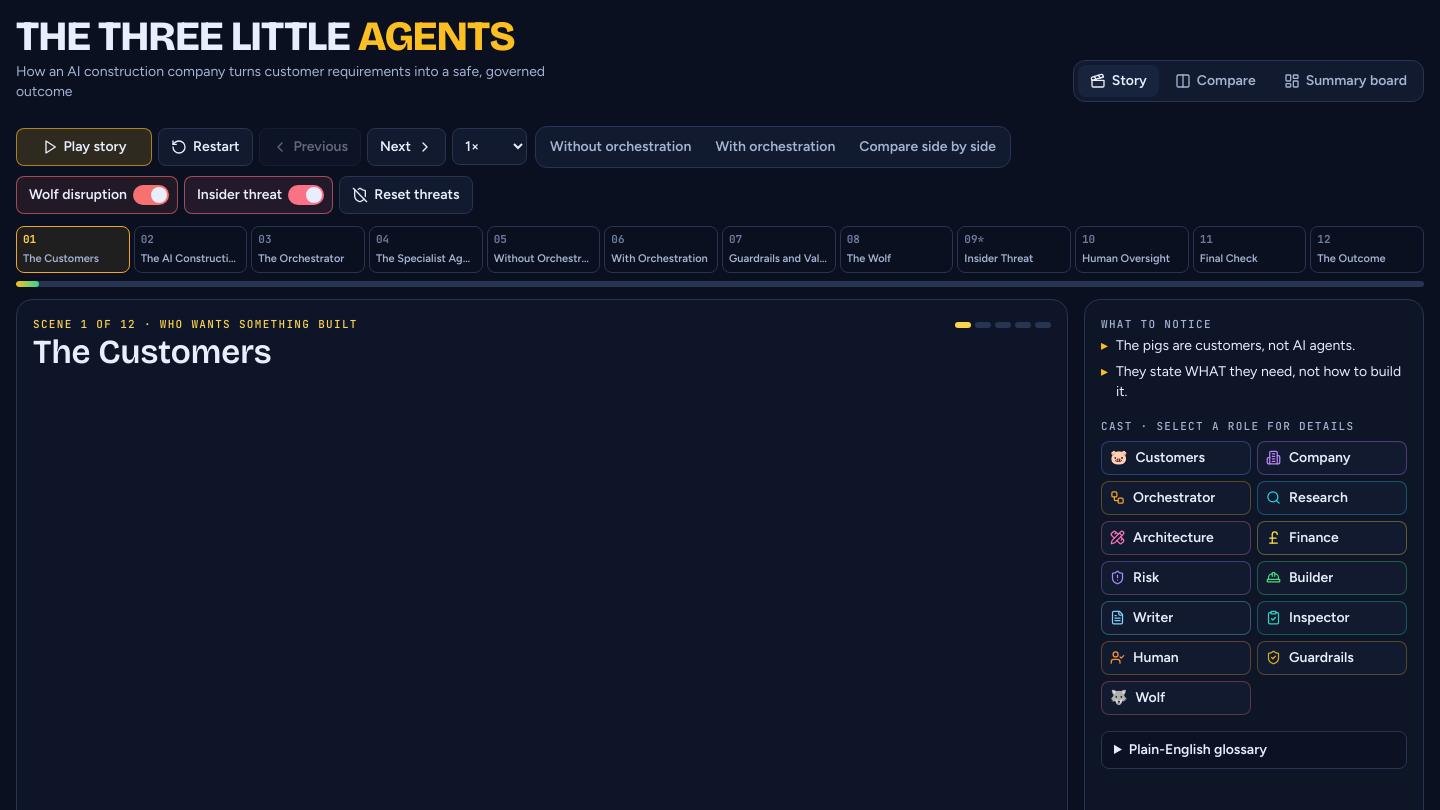
Scenario: App controls › mode buttons open the failure, controlled and compare views
The width and height of the screenshot is (1440, 810).
Click the button "Without orchestration": (621, 147) left=540, top=131, right=701, bottom=163
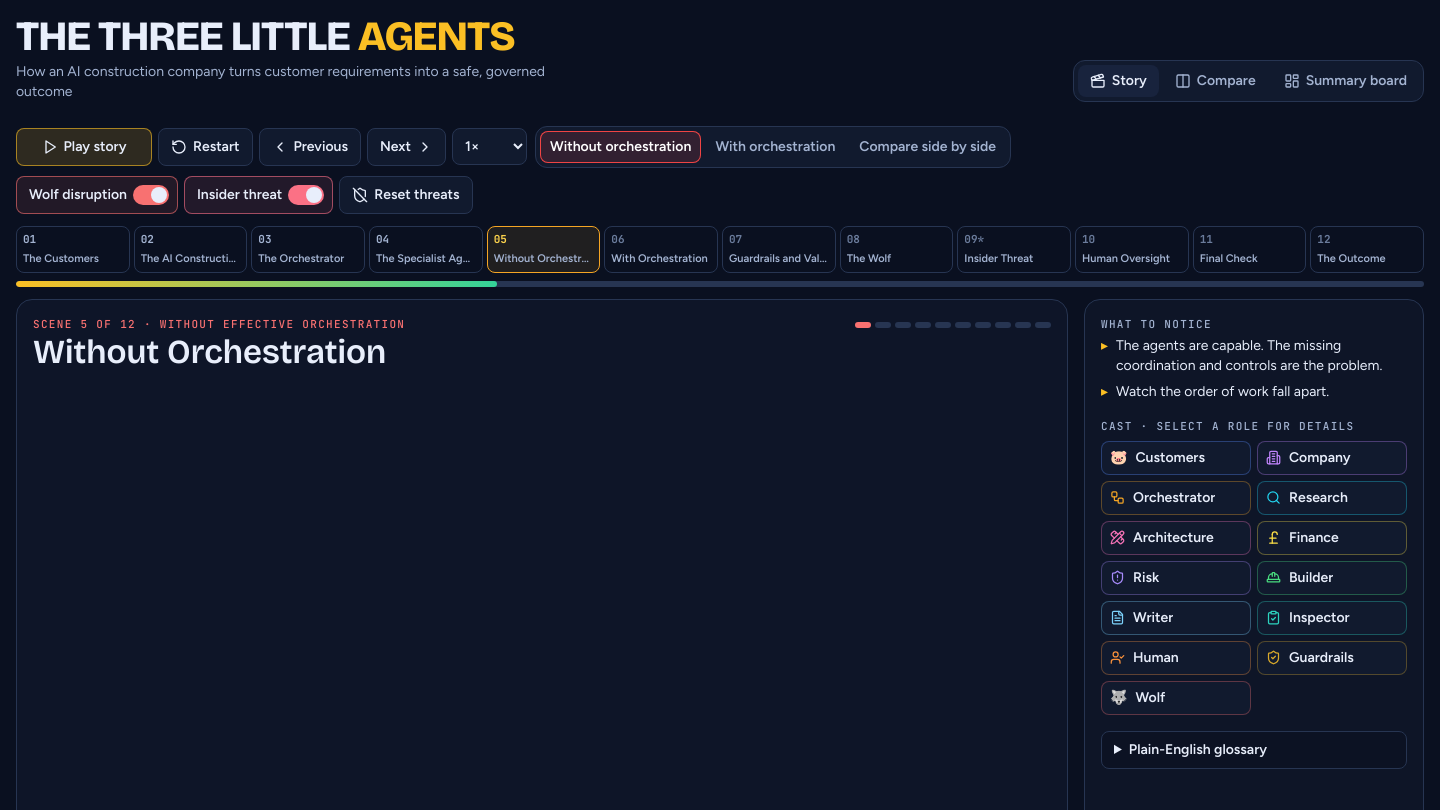
Expected: the text "Without Orchestration" is shown, left=494, top=251, right=593, bottom=268
Click the button "With orchestration": (775, 147) left=705, top=131, right=845, bottom=163
Wait 800 ms
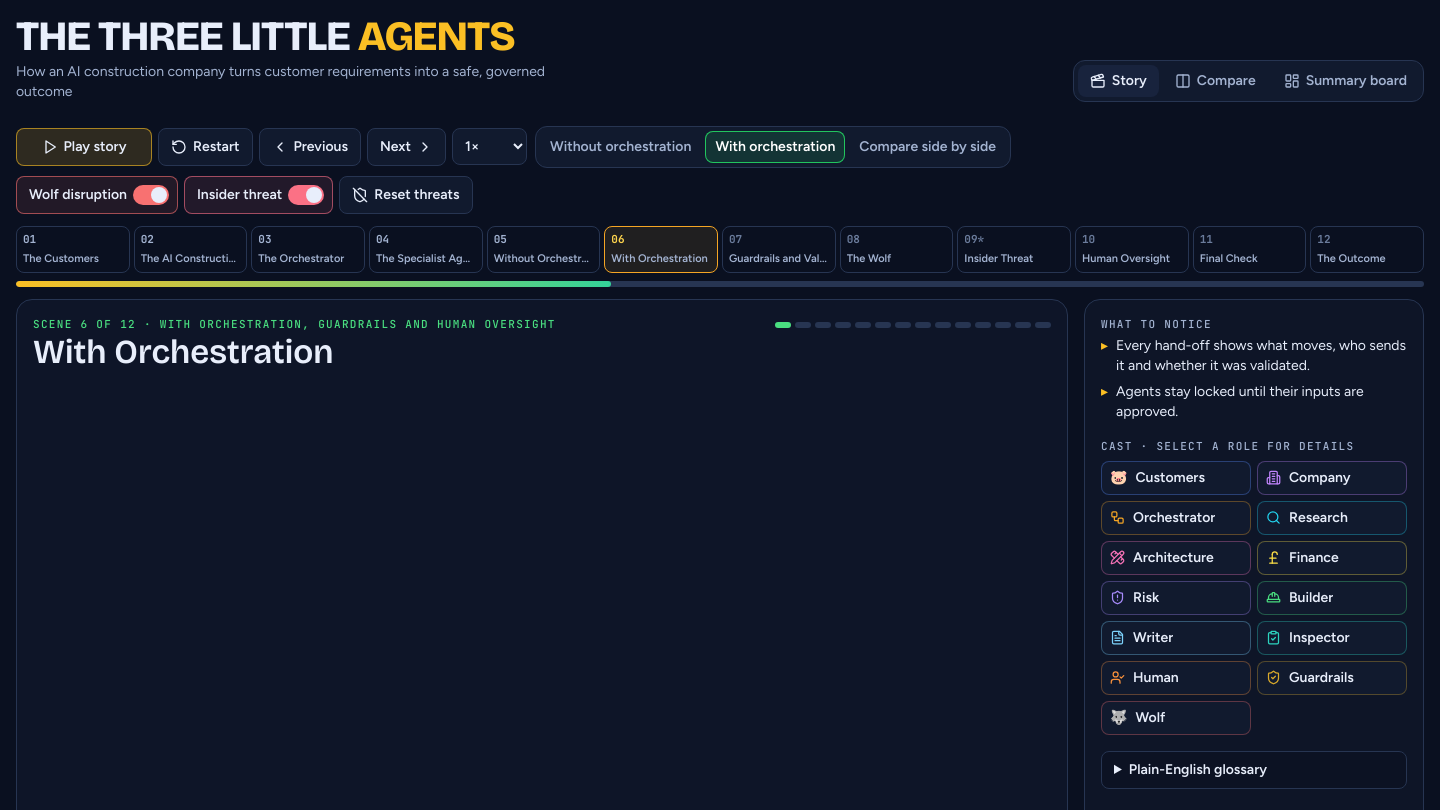
Expected: the text "With Orchestration" is shown, left=611, top=251, right=711, bottom=268
Click the button "Compare side by side": (928, 147) left=849, top=131, right=1006, bottom=163
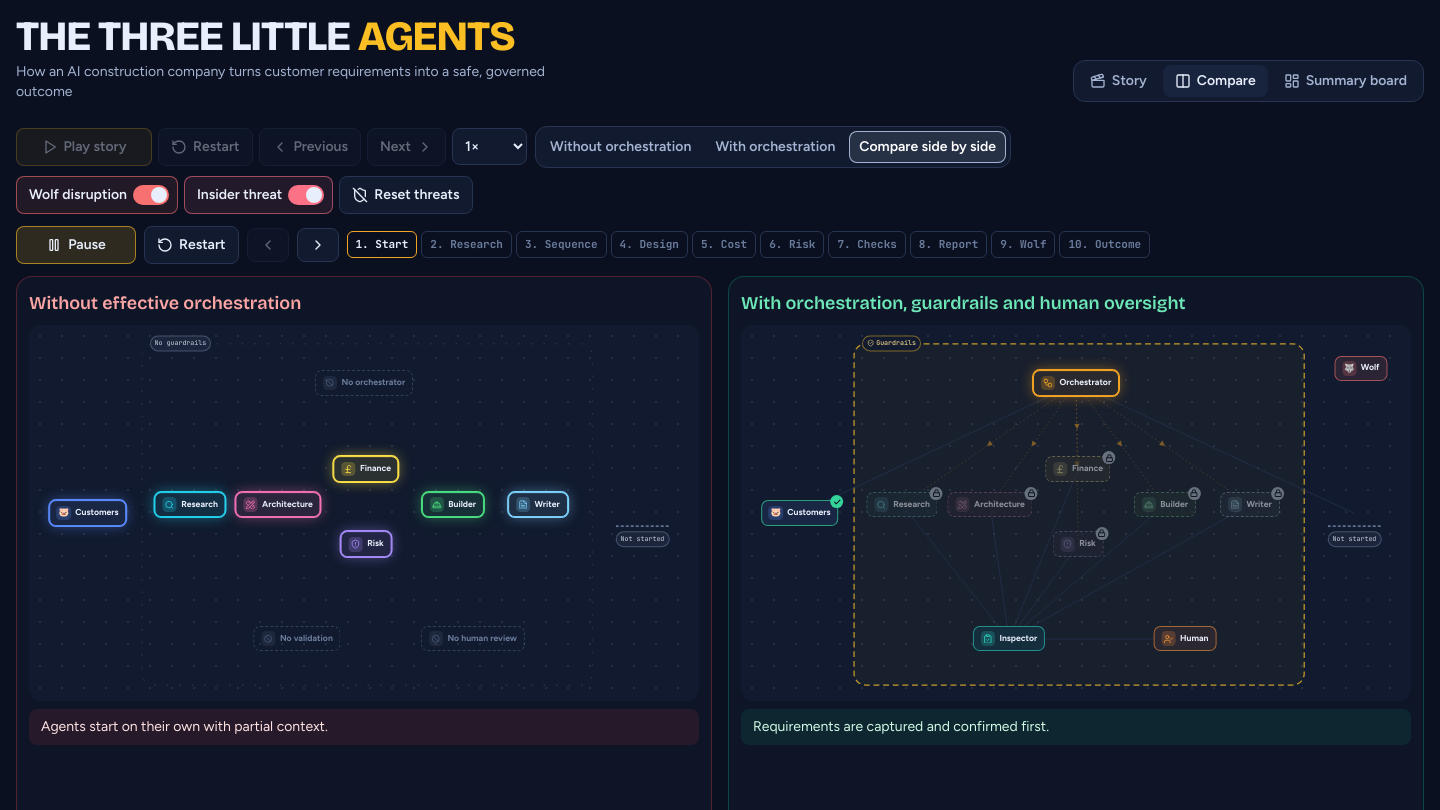
Now the heading "With orchestration, guardrails and human oversight" is shown, box left=741, top=292, right=1185, bottom=314
Now the heading "Without effective orchestration" is shown, box left=29, top=292, right=301, bottom=314
Click the button "10. Outcome": (1105, 245) left=1060, top=231, right=1150, bottom=258
(page scrolled)
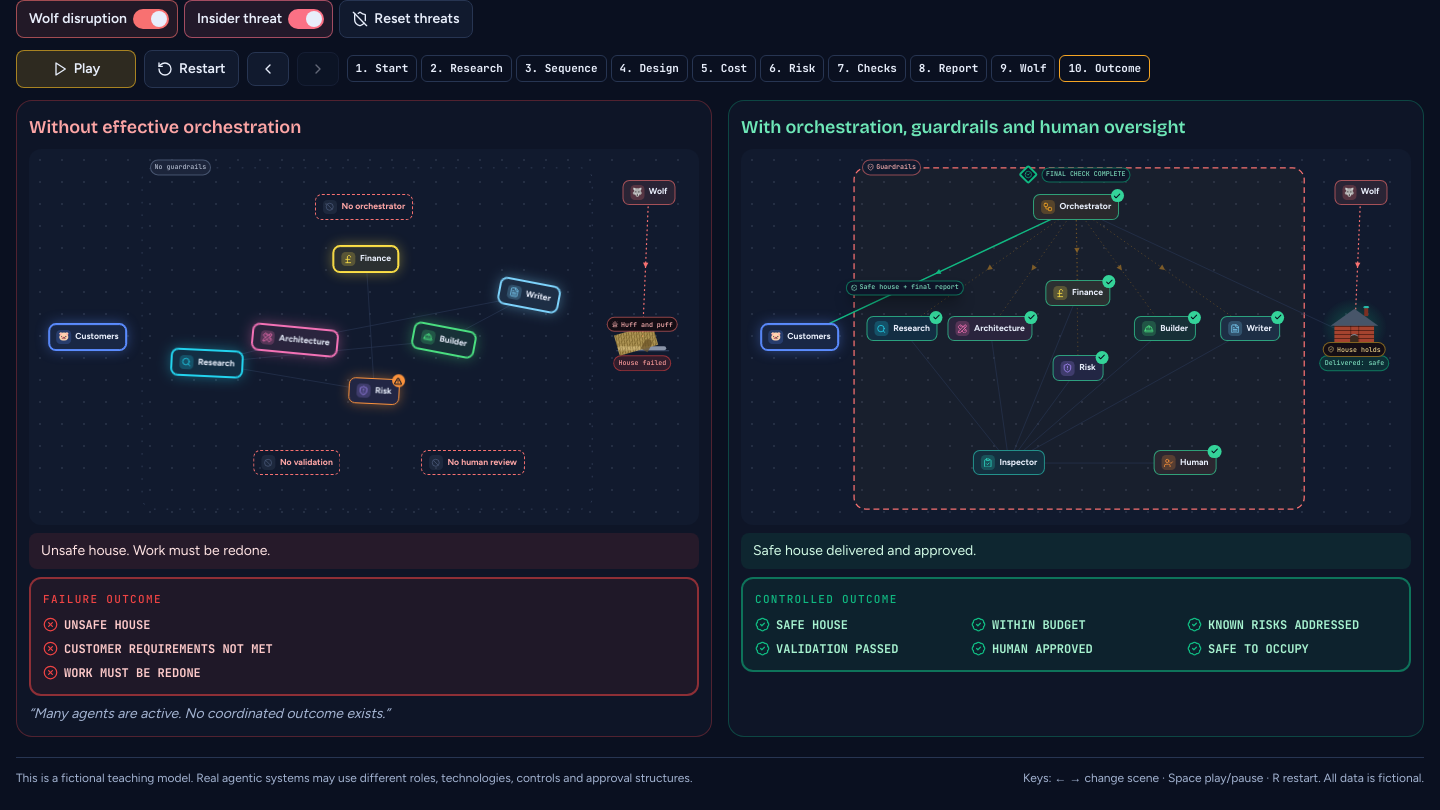
Now the element labelled "Failure outcome" shows "UNSAFE HOUSE", box left=64, top=617, right=150, bottom=633
Now the element labelled "Controlled outcome" shows "SAFE TO OCCUPY", box left=1208, top=641, right=1309, bottom=657
